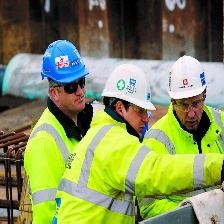helmet: (103, 60, 156, 112), (39, 41, 89, 89), (161, 57, 211, 103)
person: (144, 55, 224, 224), (81, 64, 159, 224), (24, 40, 89, 224)
vest: (150, 112, 224, 223), (79, 112, 140, 224), (29, 104, 85, 223)
